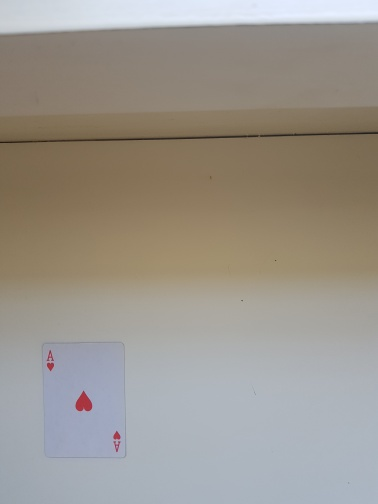ace: (41, 341, 128, 460)
